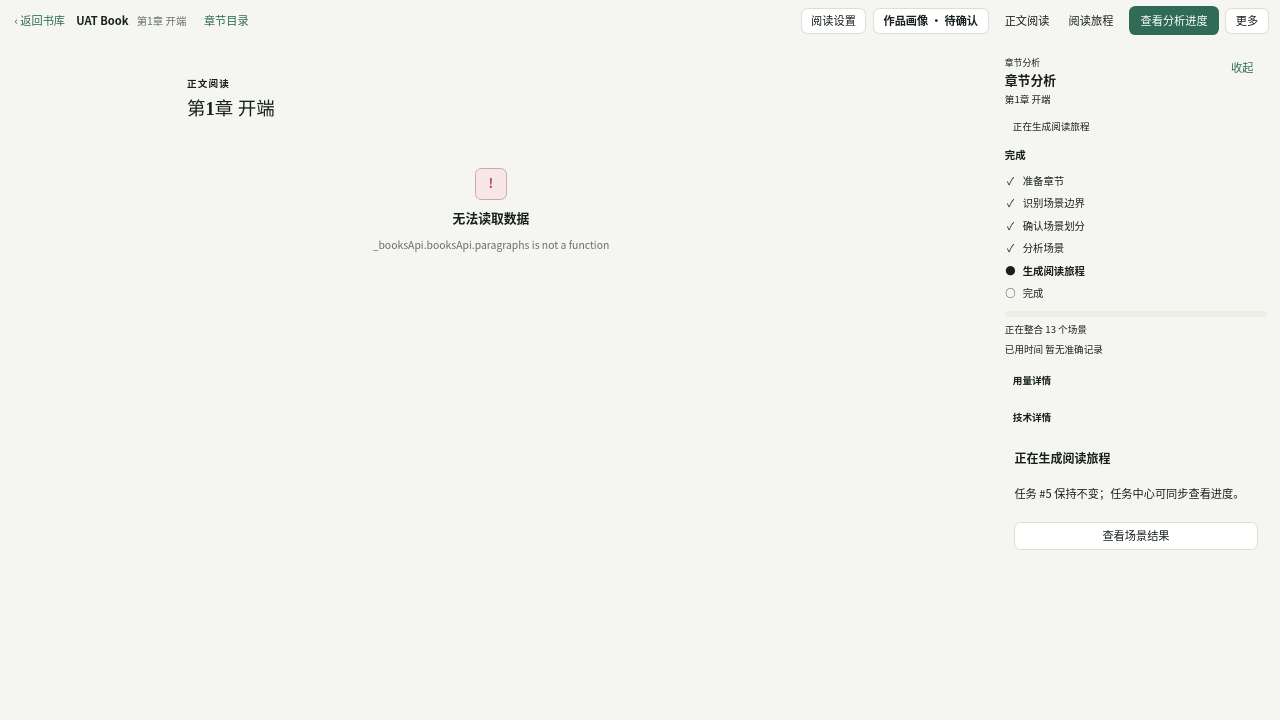
BookRoutePage reader journey resume entry › shows journey progress card while processing and keeps run id
Click the tab with test id "workspace-tab-journey" at (1091, 21), box [1059,6,1123,35]
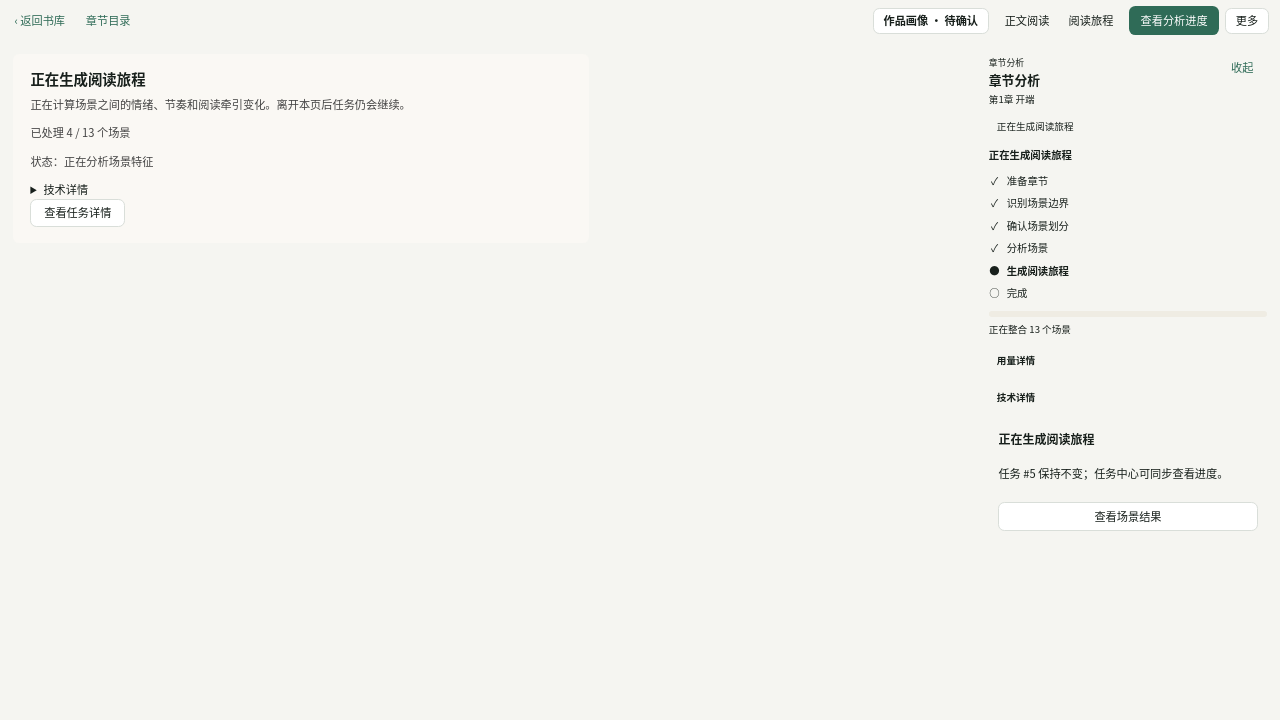
expect the element with test id "chapter-analysis-progress" is shown: met, box [976,42,1279,556]
expect the text with test id "reader-journey-progress-scenes" shows "4 / 13": met, box [30,124,131,140]
expect the element with test id "reader-journey-progress-card" is shown: met, box [13,54,589,243]
